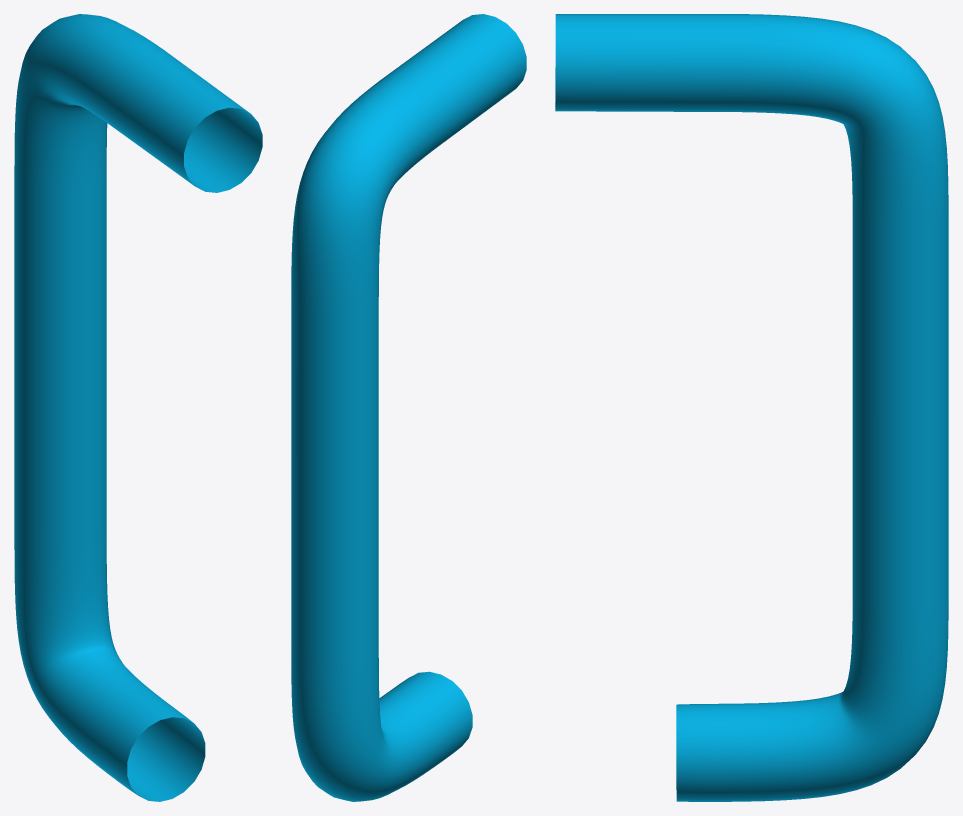
Rendered from Small Pipe Glass.fbx.
3 views of the same model, side by side, from view 1: azimuth 30°, elevation 25°; view 2: azimuth 150°, elevation 25°; view 3: azimuth 270°, elevation 25° (orthographic). The views are drawn at different scales.
Parts seen in each view (by area): view 1: SmartSeparate_2; view 2: SmartSeparate_2; view 3: SmartSeparate_2.
Boxes of the visible parts, x1,y1,x2,y2 form: SmartSeparate_2: (14,14,262,801); SmartSeparate_2: (291,14,526,801); SmartSeparate_2: (555,14,948,801).
Size of the model in its own units: 13.43 by 119 by 54.42.
